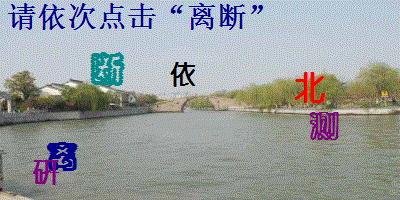result: (186, 2, 248, 30)
text: (89, 50, 126, 87), (293, 69, 329, 106), (44, 140, 80, 174), (307, 110, 341, 142), (29, 158, 60, 187), (168, 60, 197, 88)
